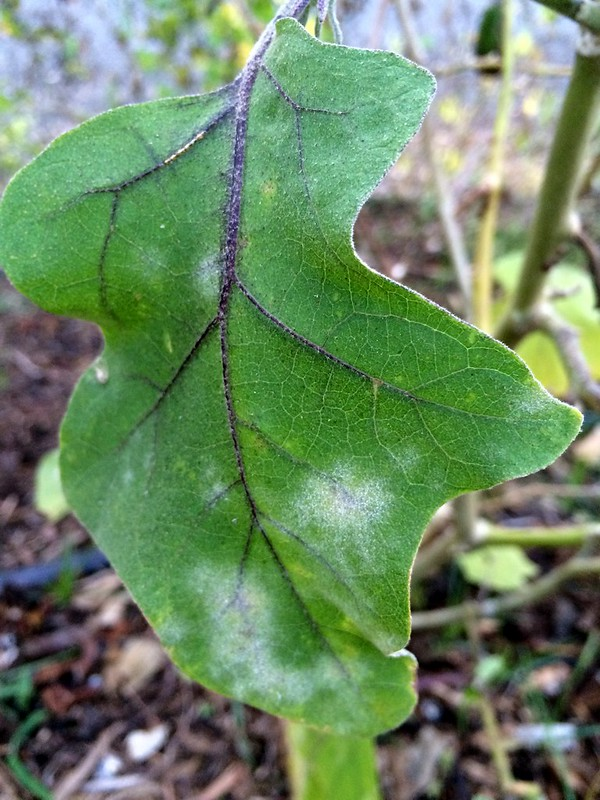Eggplant_PowderyMildew: (45, 69, 460, 736)
